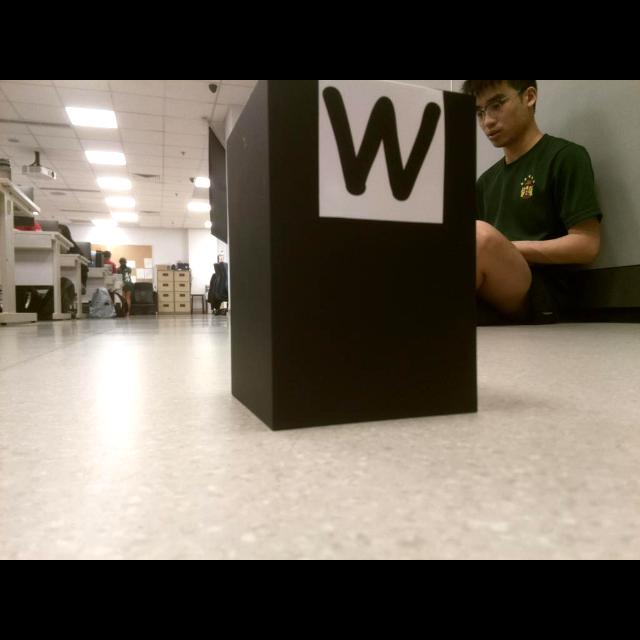W: (321, 85, 442, 203)
